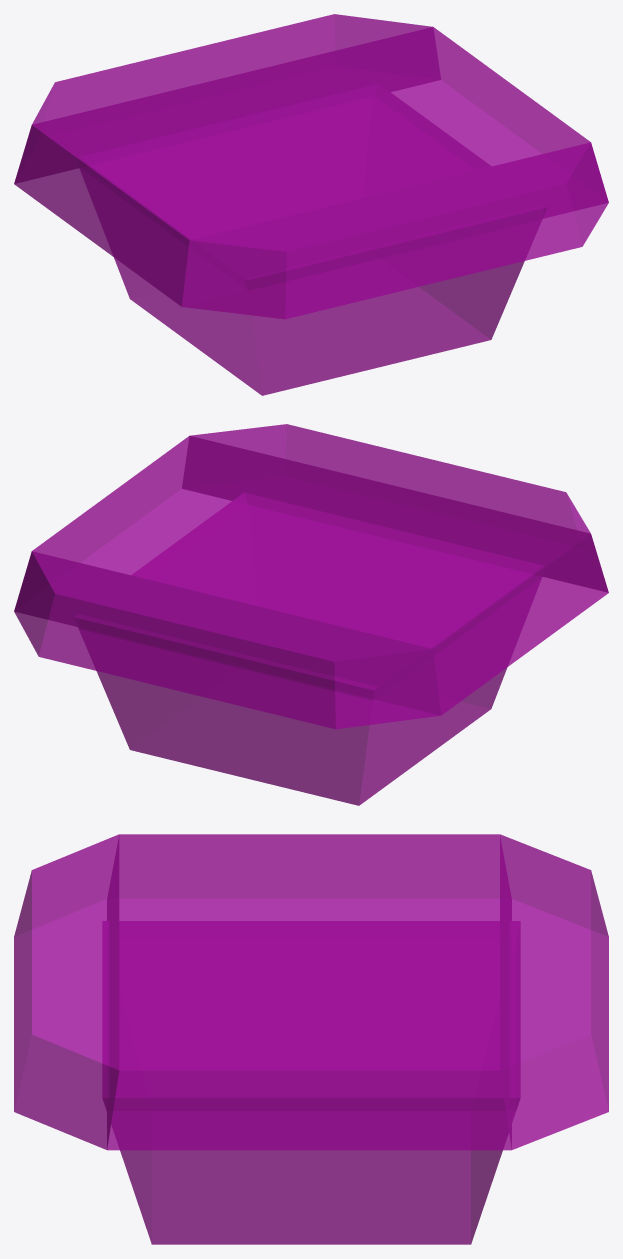
Rendered from SM_Prop_Table_03_Collision.fbx.
3 views of the same model, one above another, from view 1: azimuth 30°, elevation 25°; view 2: azimuth 150°, elevation 25°; view 3: azimuth 270°, elevation 25° (orthographic). The views are drawn at different scales.
Visible parts, largest first — view 1: SM_Prop_Table_03_Collision; view 2: SM_Prop_Table_03_Collision; view 3: SM_Prop_Table_03_Collision.
Part boxes in pixels (bbox=[...]): SM_Prop_Table_03_Collision: bbox=[14, 14, 608, 395]; SM_Prop_Table_03_Collision: bbox=[14, 424, 608, 805]; SM_Prop_Table_03_Collision: bbox=[14, 834, 608, 1244].
Bounding box in the file's own units: 230 × 95.97 × 230.
